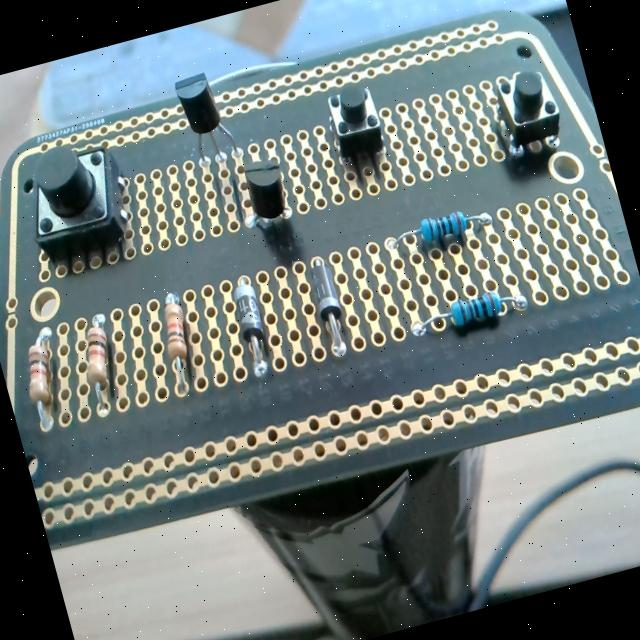diode: (304, 254, 355, 362), (228, 276, 280, 381)
resistor: (13, 323, 78, 432), (411, 282, 528, 340), (386, 201, 494, 258), (74, 309, 130, 416), (150, 289, 204, 397)
switch: (12, 136, 142, 276), (491, 62, 566, 154), (321, 82, 392, 175)
transistor: (172, 65, 243, 172), (230, 152, 298, 232)
